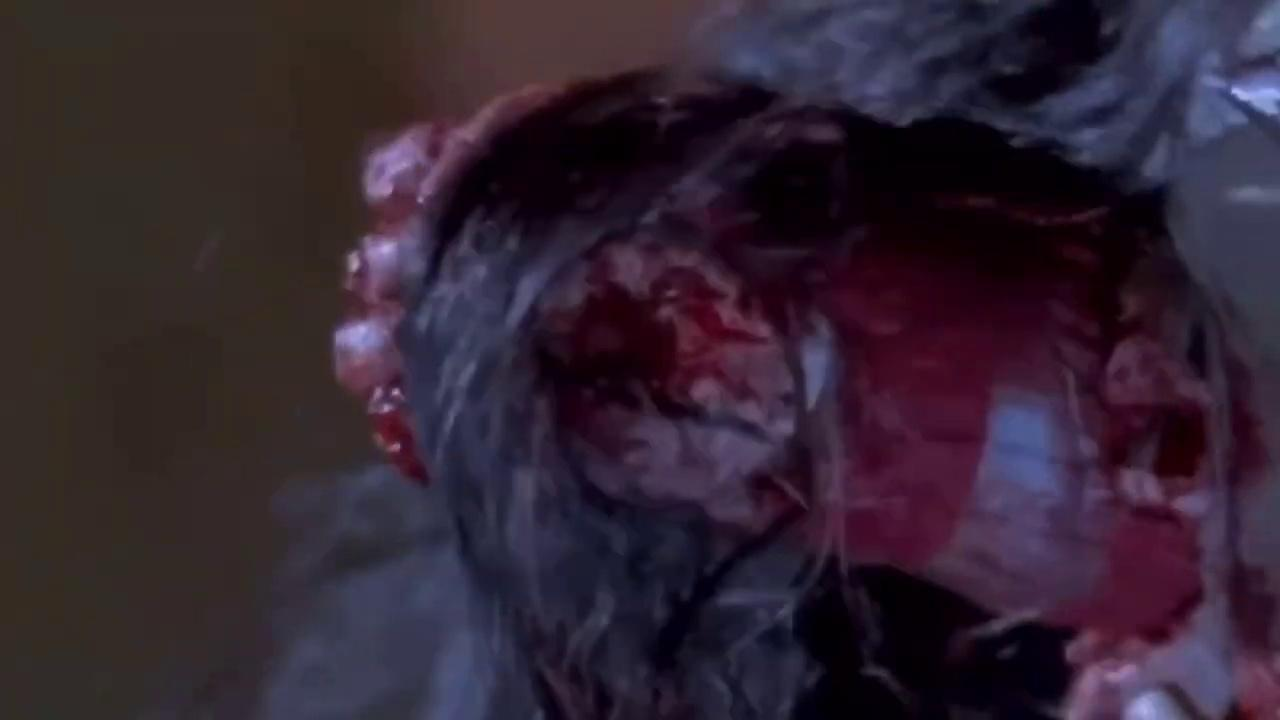Fire: (536, 174, 842, 670), (1016, 211, 1271, 684), (333, 121, 470, 486), (1226, 508, 1280, 719)
